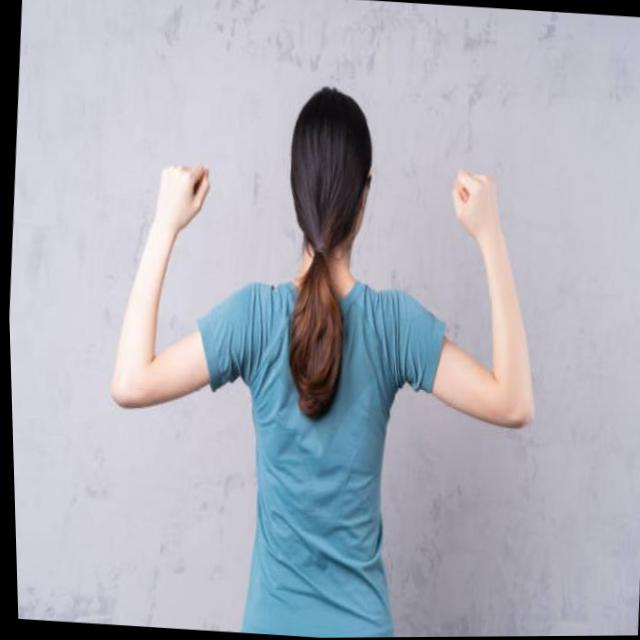no helmet: (271, 80, 387, 267)
